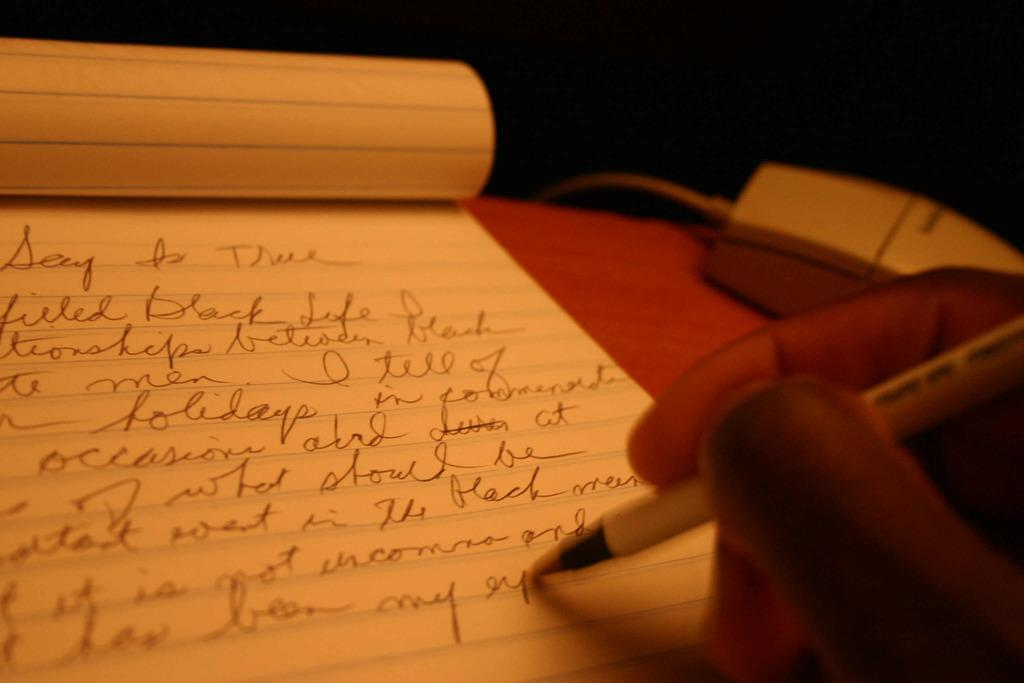pen: (520, 311, 1023, 583)
